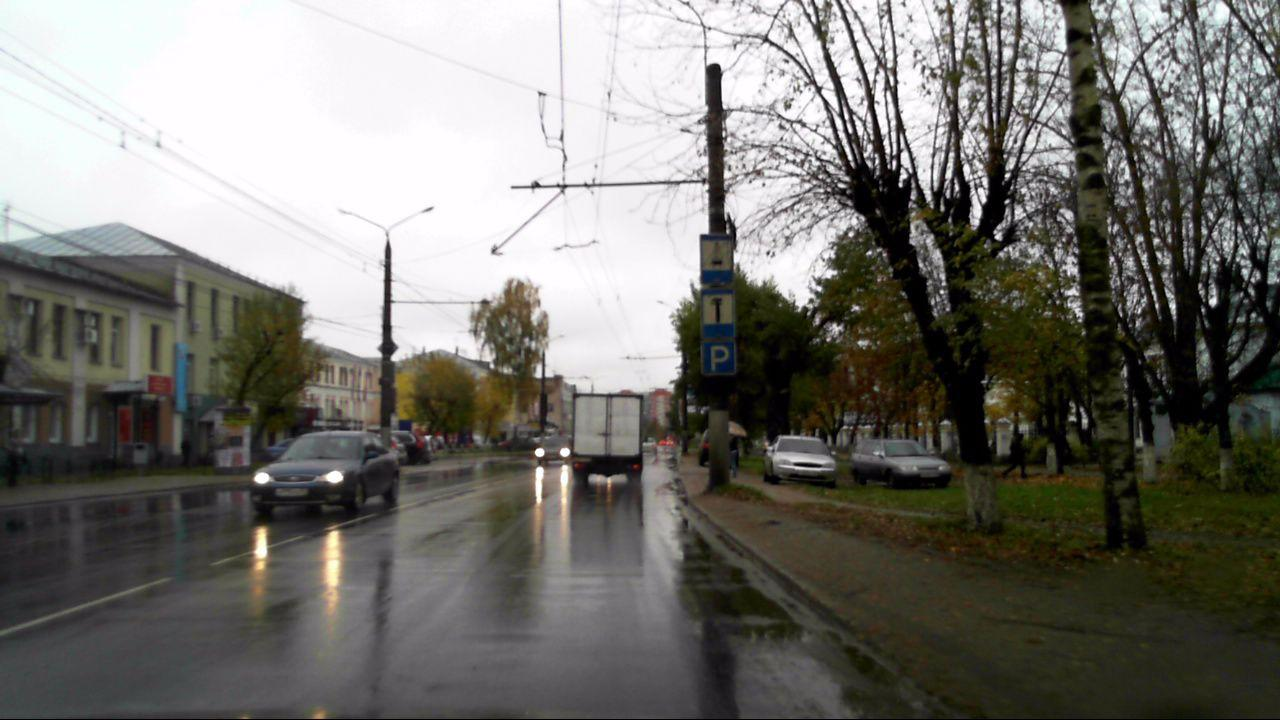6_4: (700, 341, 736, 375)
7_4: (699, 288, 736, 341)
7_5: (700, 233, 735, 283)
